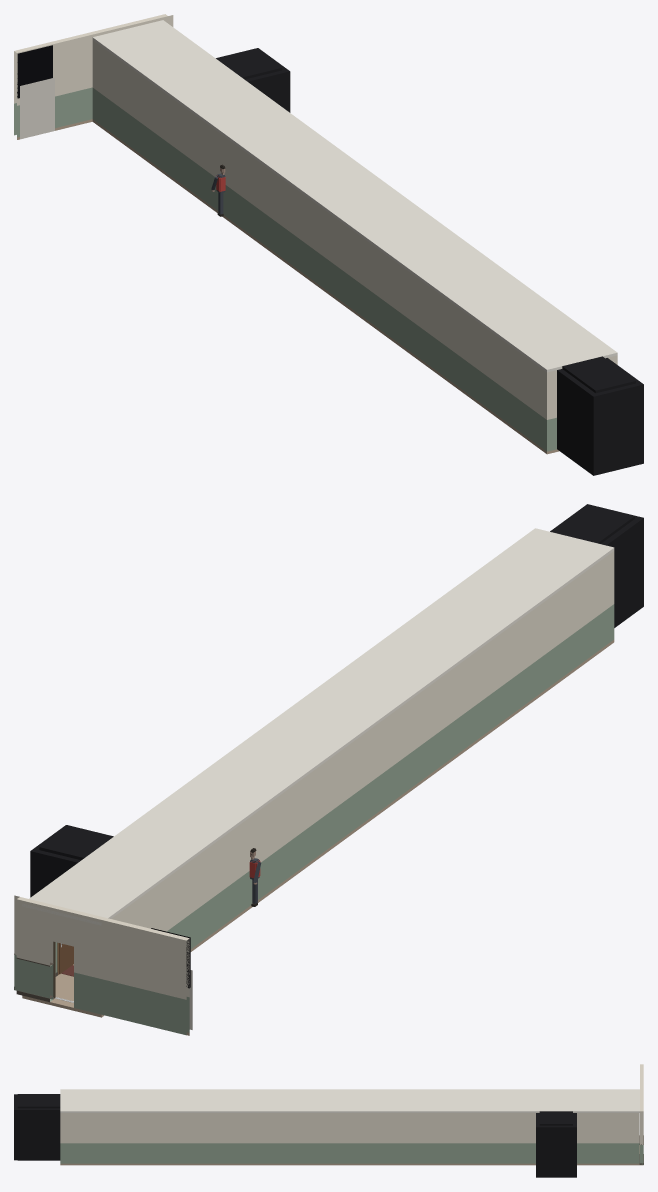
File: Kat5.fbx
The picture shows the model from 3 angles, top to bottom: view 1: azimuth 30°, elevation 25°; view 2: azimuth 150°, elevation 25°; view 3: azimuth 270°, elevation 25°; orthographic projection. The views are drawn at different scales.
Visible parts, largest first — view 1: Kat5Koridor, Kat5Ek; view 2: Kat5Koridor, Kat5Ek; view 3: Kat5Koridor, Kat5Ek.
Part boxes in pixels (x1,y1,x2,y2): Kat5Koridor: (14, 14, 617, 454); Kat5Ek: (216, 48, 643, 475); Kat5Koridor: (14, 528, 614, 1035); Kat5Ek: (30, 504, 643, 897); Kat5Koridor: (60, 1064, 643, 1165); Kat5Ek: (14, 1094, 576, 1177).
Size of the model in its own units: 7.6 by 3.3 by 33.92.
